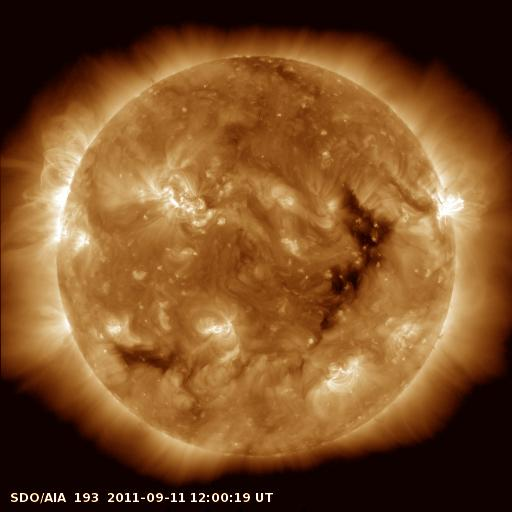coronal_hole: (318, 177, 399, 336), (112, 346, 178, 375)
